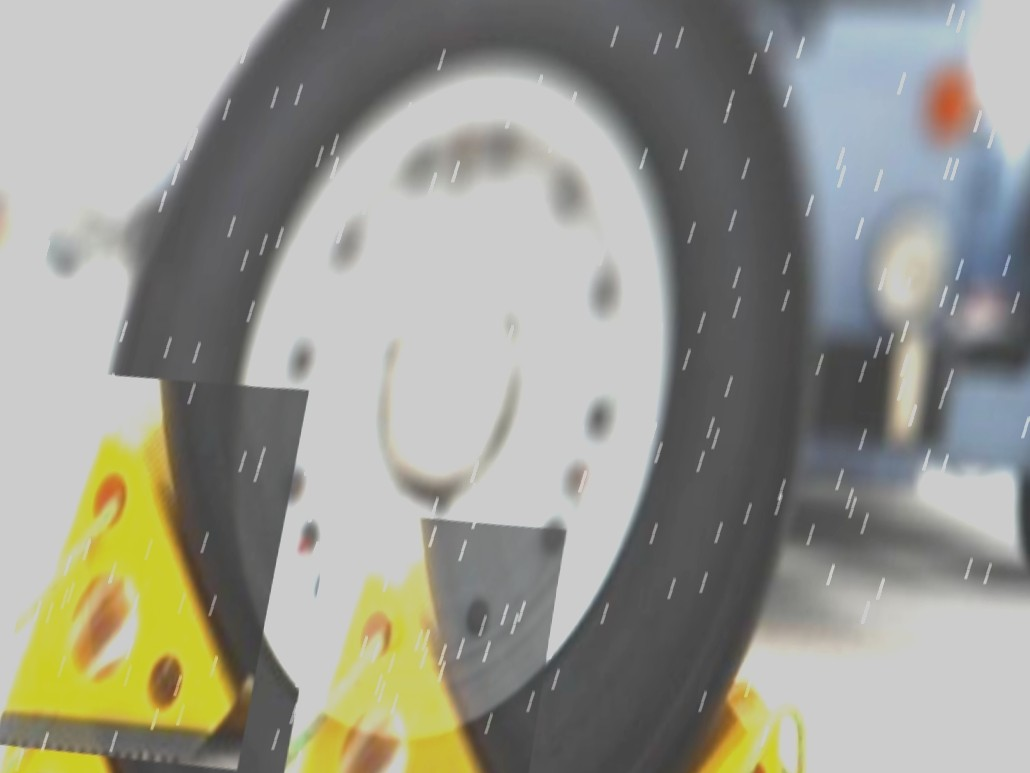chock: (0, 318, 315, 773), (260, 459, 570, 773), (0, 554, 221, 773), (544, 617, 830, 773)
wheel: (0, 0, 861, 773)
